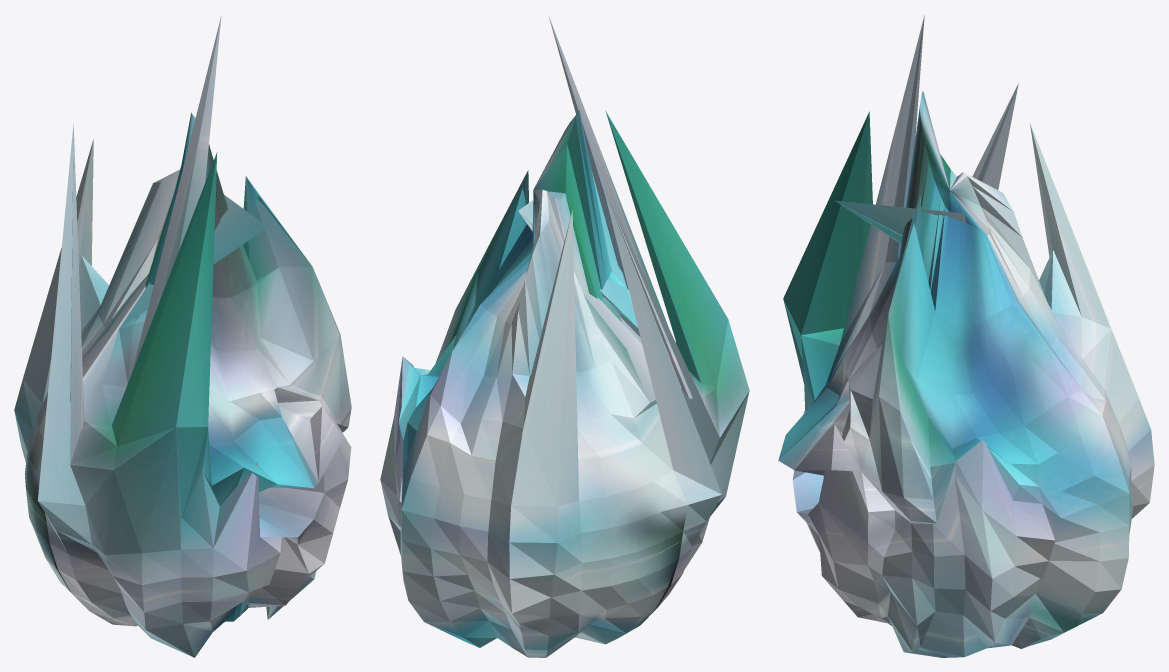
The model's file is thinkito_giro.glb.
The picture shows the model from 3 angles, left to right: view 1: azimuth 30°, elevation 25°; view 2: azimuth 150°, elevation 25°; view 3: azimuth 270°, elevation 25°; orthographic projection. The views are drawn at different scales.
Parts seen in each view (by area): view 1: Sphere; view 2: Sphere; view 3: Sphere.
Boxes of the visible parts, bbox=[...] form: Sphere: bbox=[14, 14, 351, 657]; Sphere: bbox=[380, 15, 749, 657]; Sphere: bbox=[778, 15, 1154, 657].
Bounding box in the file's own units: 2.2 × 4.1 × 2.2.
Materials: 1 (1 with a texture image).
